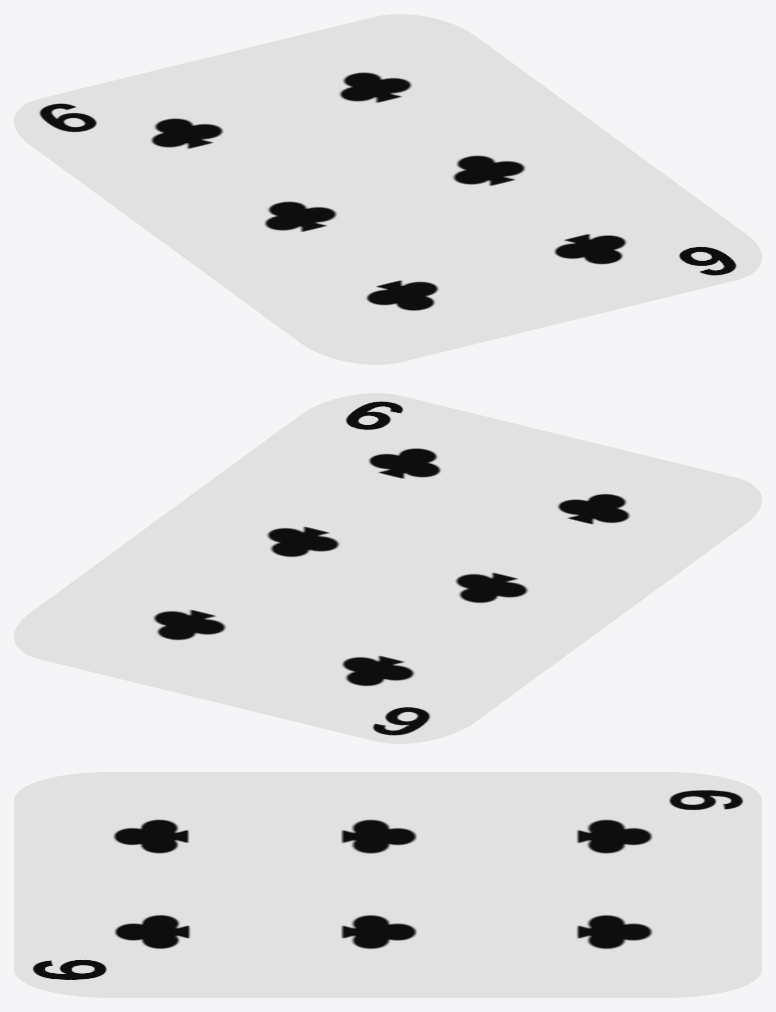
File: Clubs6.fbx
3 renders of one model, top to bottom at view 1: azimuth 30°, elevation 25°; view 2: azimuth 150°, elevation 25°; view 3: azimuth 270°, elevation 25°, orthographic. The views are drawn at different scales.
Parts seen in each view (by area): view 1: Plane.006; view 2: Plane.006; view 3: Plane.006.
Part boxes in pixels (box(x1,y1,x2,y2)): Plane.006: box(14, 14, 761, 364); Plane.006: box(14, 393, 761, 743); Plane.006: box(14, 772, 761, 997).
Bounding box in the file's own units: 500 × 0 × 700.
Materials: 1 (1 with a texture image).
